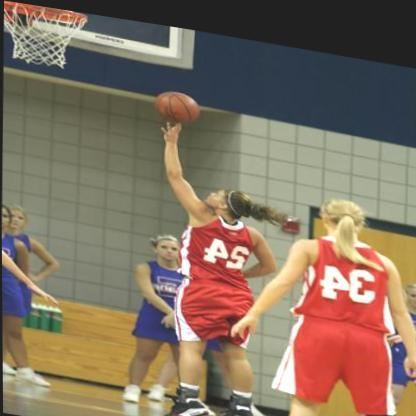basketball: (150, 81, 202, 121)
rim: (5, 1, 87, 22)
